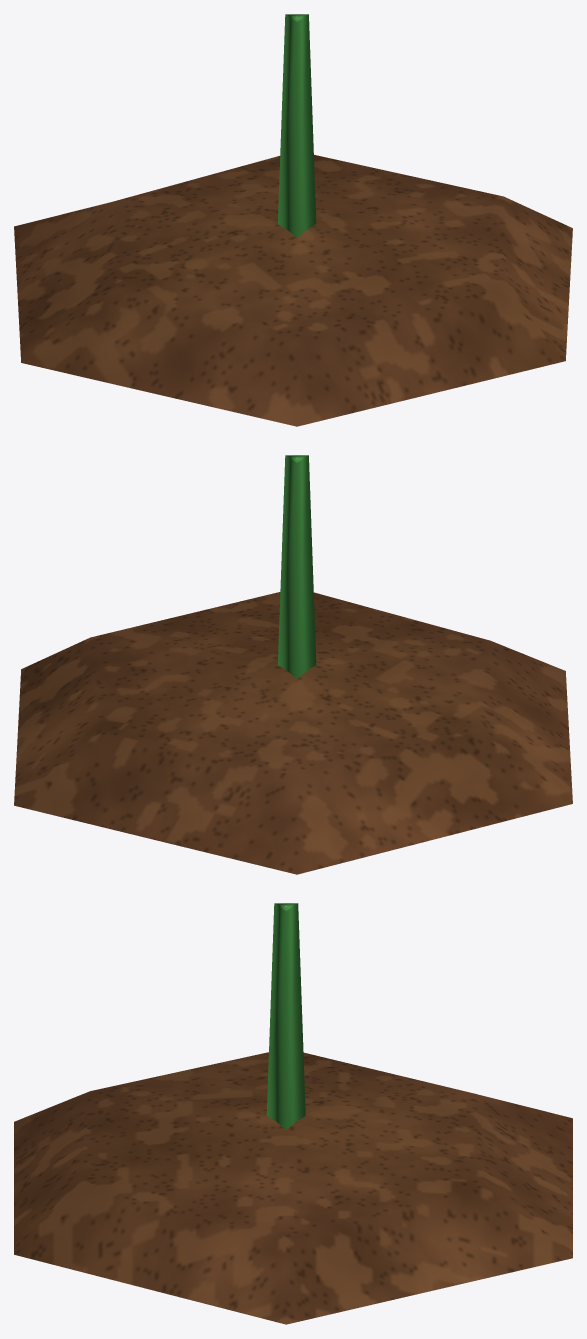
File: plant-strawberry-4-far.glb
The picture shows the model from 3 angles, top to bottom: view 1: azimuth 30°, elevation 25°; view 2: azimuth 150°, elevation 25°; view 3: azimuth 270°, elevation 25°; orthographic projection.
Visible parts, largest first — view 1: plant-strawberry-4-far; view 2: plant-strawberry-4-far; view 3: plant-strawberry-4-far.
Boxes of the visible parts, box(x1,y1,x2,y2) form: plant-strawberry-4-far: box(14, 14, 572, 426); plant-strawberry-4-far: box(14, 455, 572, 874); plant-strawberry-4-far: box(14, 903, 572, 1324).
Bounding box in the file's own units: 0.84 × 0.405 × 0.7275.
Materials: 3 (1 with a texture image).
